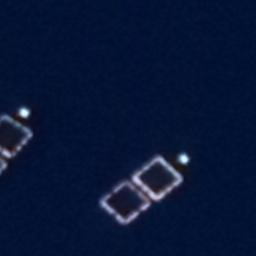square_solid: (126, 151, 185, 206), (97, 177, 154, 229), (1, 109, 36, 164)
